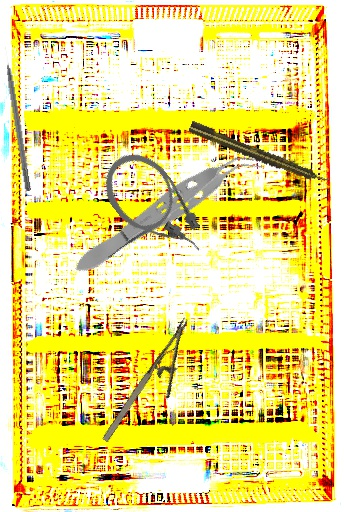Cannula: (91, 141, 217, 276)
Handpiece: (187, 119, 331, 189)
Hook Surgical: (2, 46, 33, 192)
Needle Holder: (98, 316, 213, 457)
Tissue Forceps: (66, 137, 269, 285)
